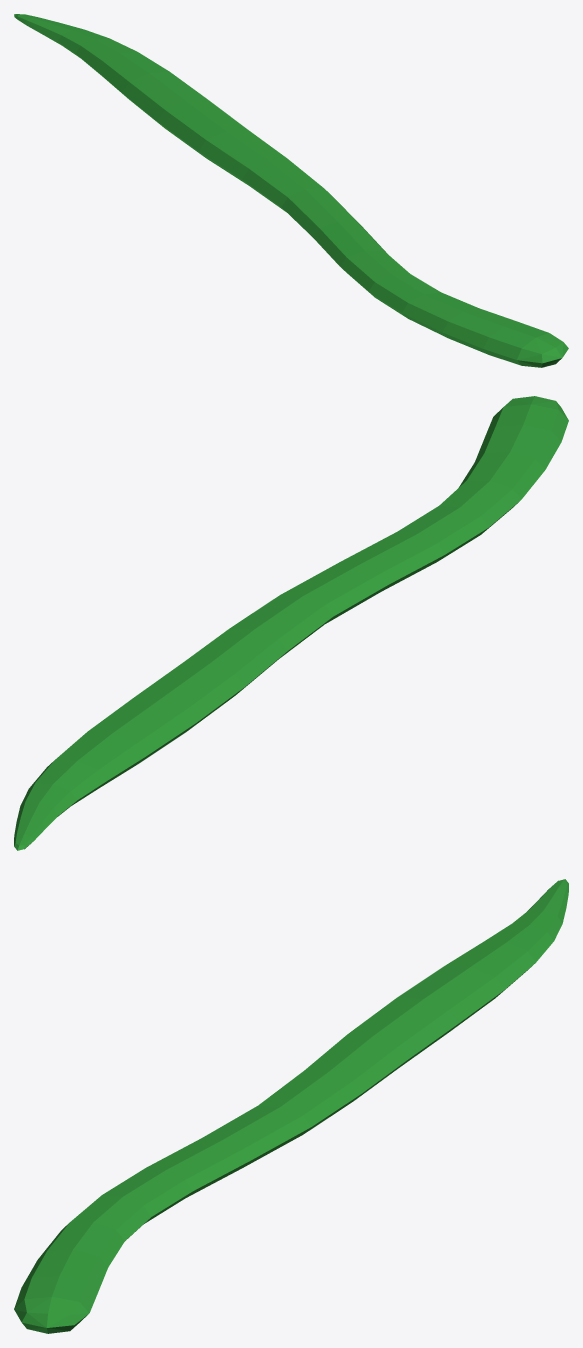
Rendered from SM_Grass_02.fbx.
The picture shows the model from 3 angles, top to bottom: view 1: azimuth 30°, elevation 25°; view 2: azimuth 150°, elevation 25°; view 3: azimuth 330°, elevation 25°; orthographic projection. The views are drawn at different scales.
Visible parts, largest first — view 1: SM_Grass_02; view 2: SM_Grass_02; view 3: SM_Grass_02.
Part boxes in pixels (<box>): SM_Grass_02: <box>14,14,568,367</box>; SM_Grass_02: <box>14,396,568,850</box>; SM_Grass_02: <box>14,879,568,1333</box>.
Size of the model in its own units: 180 by 19.53 by 5.21.
